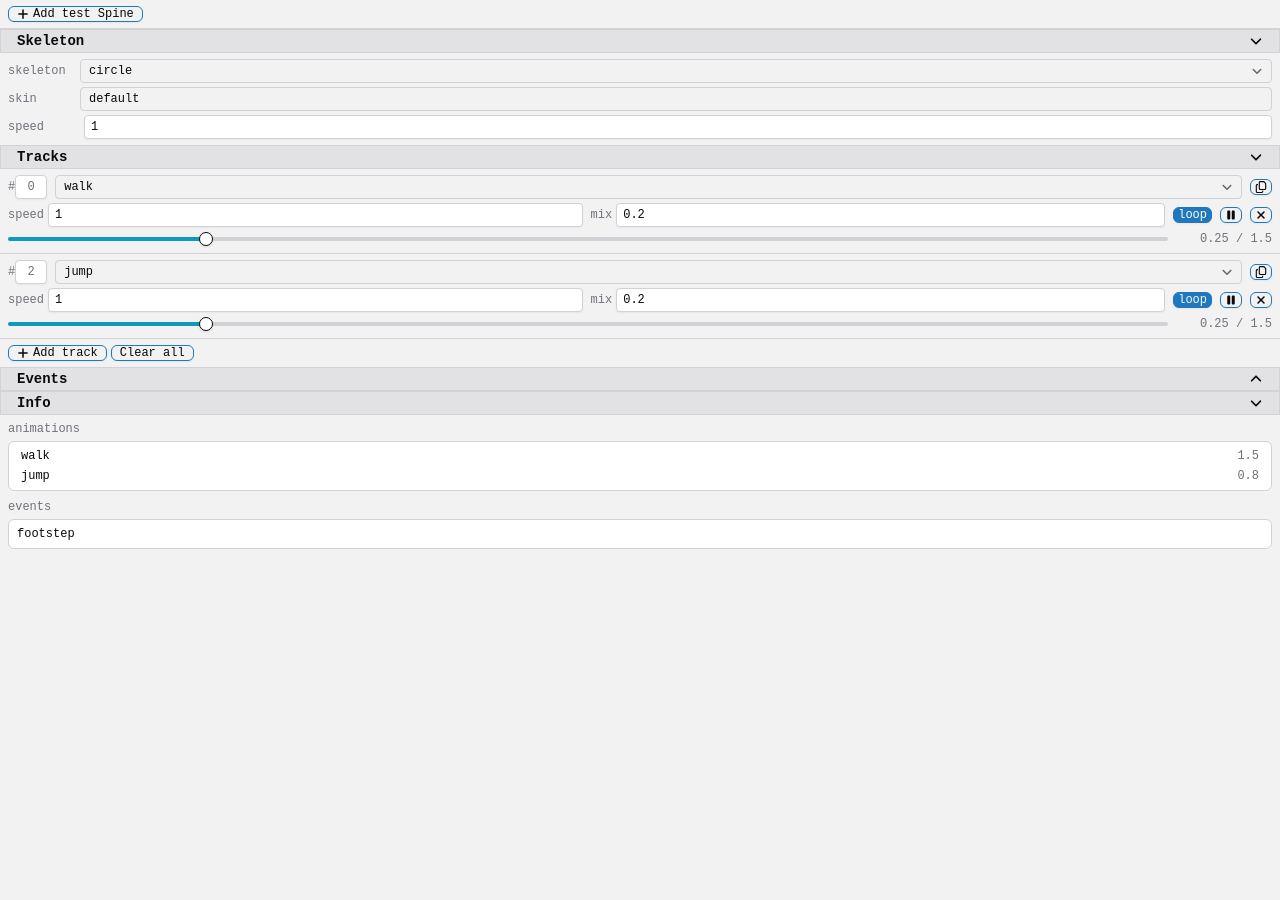
SpineSection › adds the track after the last one and marks it as waiting
Click the button "Add track": (57, 353) [8, 345, 107, 361]
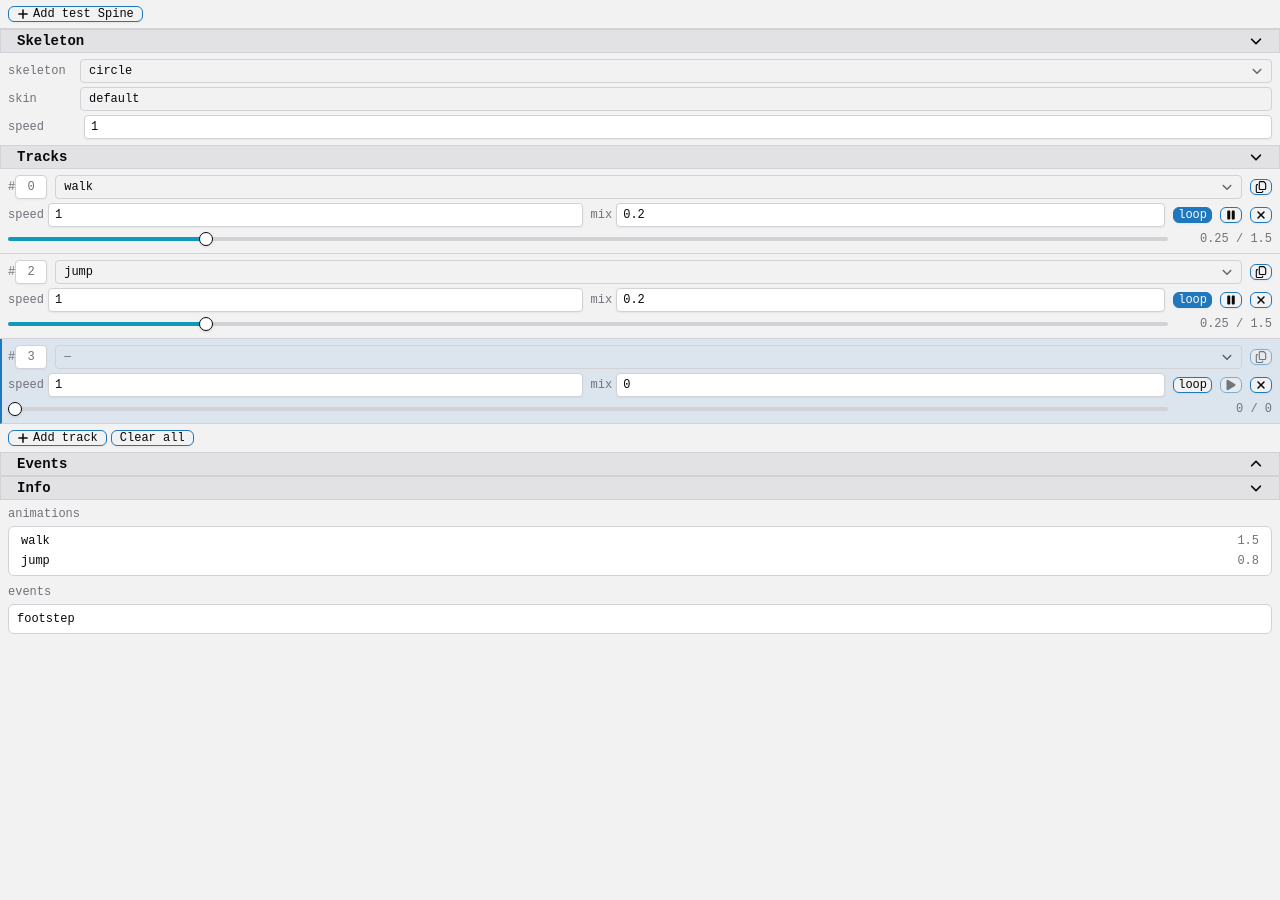
Result: the 3rd field labelled "#" holds "3" at [15, 345, 47, 369]
